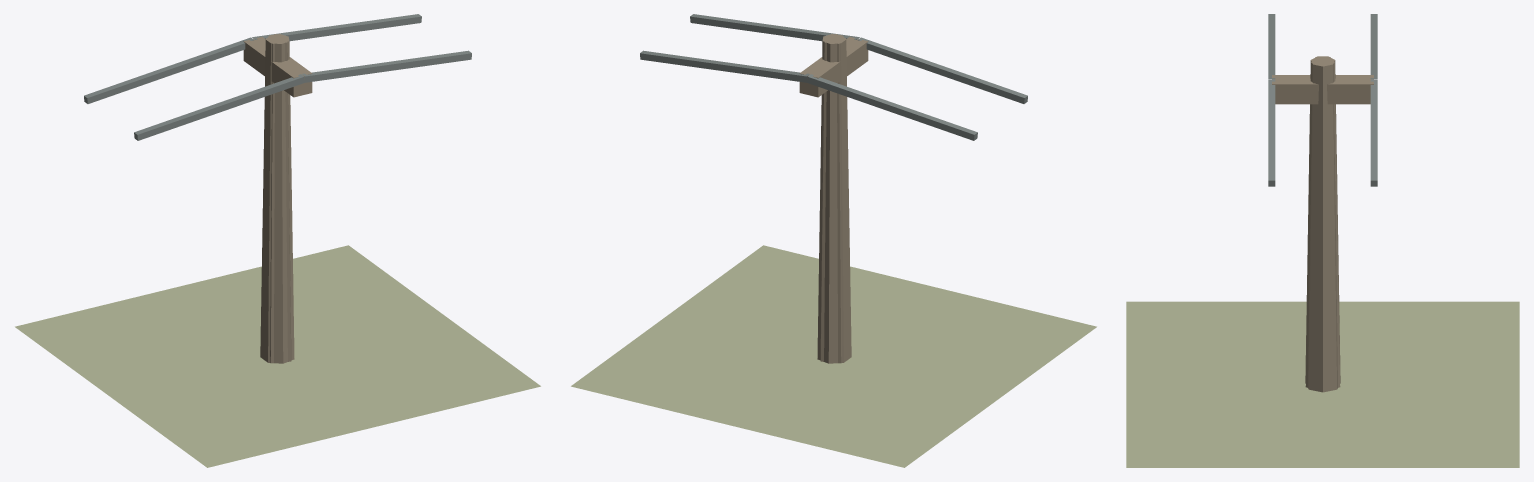
The picture shows the model from 3 angles, left to right: view 1: azimuth 30°, elevation 25°; view 2: azimuth 150°, elevation 25°; view 3: azimuth 270°, elevation 25°; orthographic projection.
Visible parts, largest first — view 1: Near, Far; view 2: Near, Far; view 3: Near, Far.
Part boxes in pixels (<box>): Near: <box>15,14,540,467</box>; Far: <box>266,34,291,363</box>; Near: <box>571,14,1096,467</box>; Far: <box>820,34,845,363</box>; Near: <box>1126,14,1519,467</box>; Far: <box>1305,57,1340,387</box>.
Bounding box in the file's own units: 1 × 0.91 × 1.
